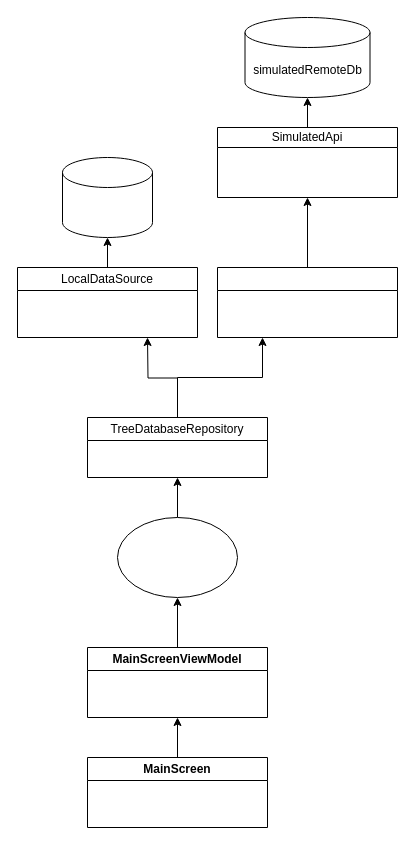
Image size: 415x845. Some labels were removed from this diagram. The shapes that lost their labels are listed below. From the top down, each one's centre as x and y in pixels, then its label:
the point at 107,197: localCacheDb
the point at 307,302: RemoteDataSource
the point at 177,557: Interactors
